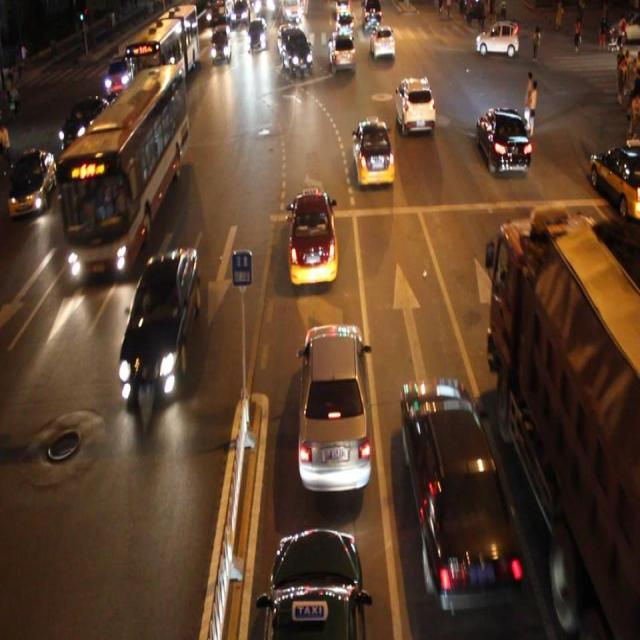bus: (491, 220, 640, 640)
car: (399, 376, 518, 607), (297, 319, 373, 495), (260, 526, 367, 640), (120, 249, 198, 398), (526, 211, 615, 300), (287, 188, 339, 284), (476, 106, 530, 176), (1, 150, 55, 214), (59, 97, 111, 153), (351, 119, 395, 184), (395, 77, 436, 135), (280, 28, 314, 75), (104, 55, 134, 96), (328, 30, 356, 73), (370, 25, 396, 59), (247, 17, 268, 53)
truck: (209, 24, 232, 65)
van: (61, 71, 184, 273), (125, 1, 198, 96)
